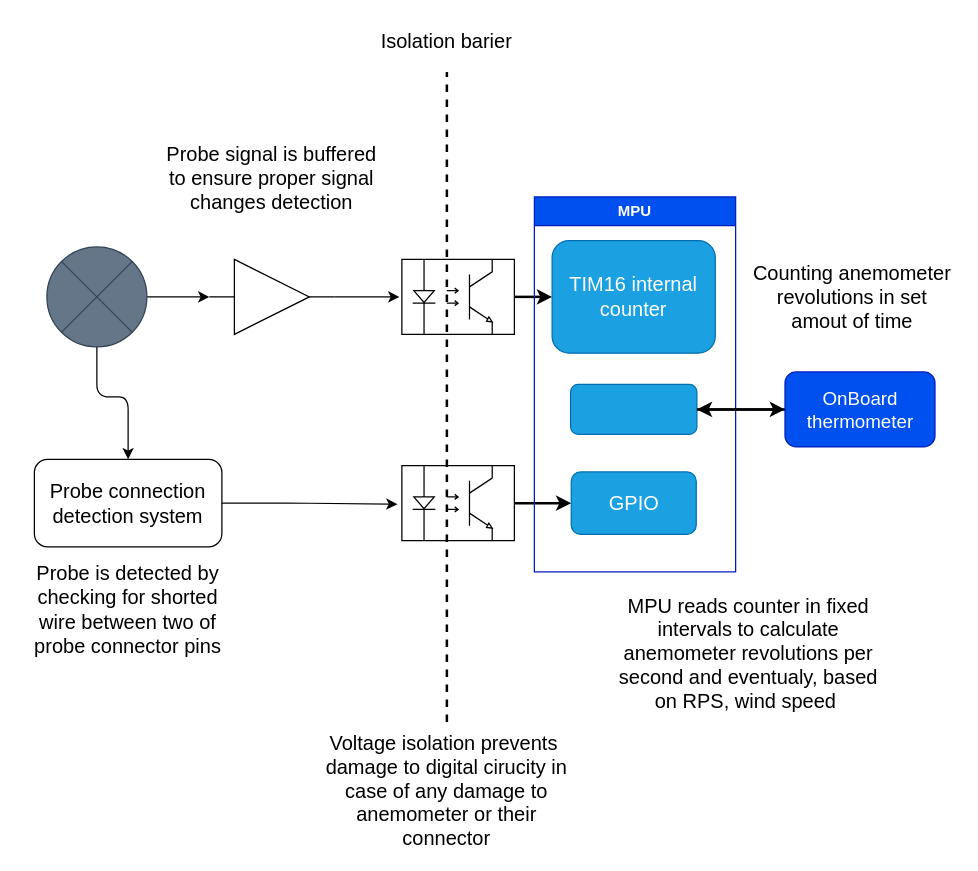
This 978x871 diagram has some shape labels left out. The centre of each missing label's shape, as x and y in pixels:
Anemometer probe: [96,296]
I2C IF: [633,408]
